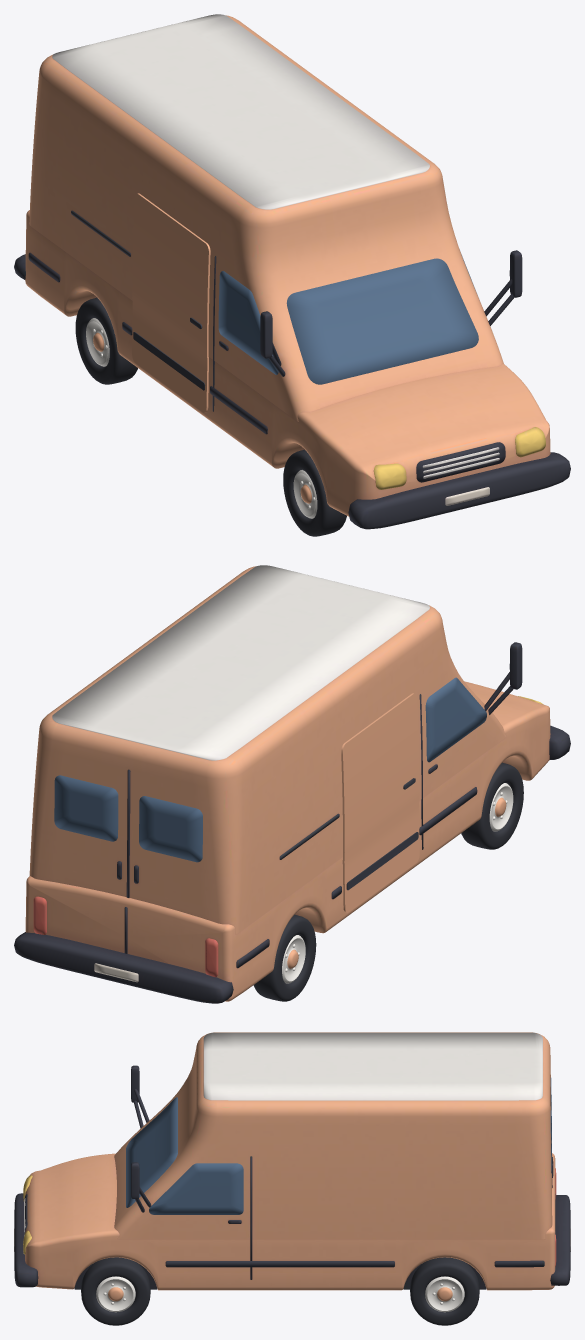
Rendered from delivery-van.glb.
The picture shows the model from 3 angles, top to bottom: view 1: azimuth 30°, elevation 25°; view 2: azimuth 150°, elevation 25°; view 3: azimuth 270°, elevation 25°; orthographic projection. The views are drawn at different scales.
Parts seen in each view (by area): view 1: delivery-van_body, delivery-van_windows, delivery-van_sliding_door, delivery-van_wheel_fr, delivery-van_wheel_rr; view 2: delivery-van_body, delivery-van_sliding_door, delivery-van_windows, delivery-van_wheel_fr, delivery-van_wheel_rr; view 3: delivery-van_body, delivery-van_windows, delivery-van_wheel_fl, delivery-van_wheel_rl.
Boxes of the visible parts, box(x1,y1,x2,y2) form: delivery-van_body: box(14, 14, 570, 529); delivery-van_windows: box(218, 254, 478, 384); delivery-van_sliding_door: box(132, 193, 210, 412); delivery-van_wheel_fr: box(283, 449, 346, 536); delivery-van_wheel_rr: box(75, 297, 137, 384); delivery-van_body: box(14, 565, 570, 1003); delivery-van_sliding_door: box(341, 693, 419, 912); delivery-van_windows: box(54, 677, 486, 862); delivery-van_wheel_fr: box(461, 762, 523, 849); delivery-van_wheel_rr: box(253, 914, 316, 1001); delivery-van_body: box(14, 1032, 570, 1290); delivery-van_windows: box(126, 1078, 551, 1214); delivery-van_wheel_fl: box(81, 1257, 150, 1325); delivery-van_wheel_rl: box(410, 1257, 479, 1325).
Bounding box in the file's own units: 2.44 × 2.54 × 5.76.
16 materials, 1 textured.
